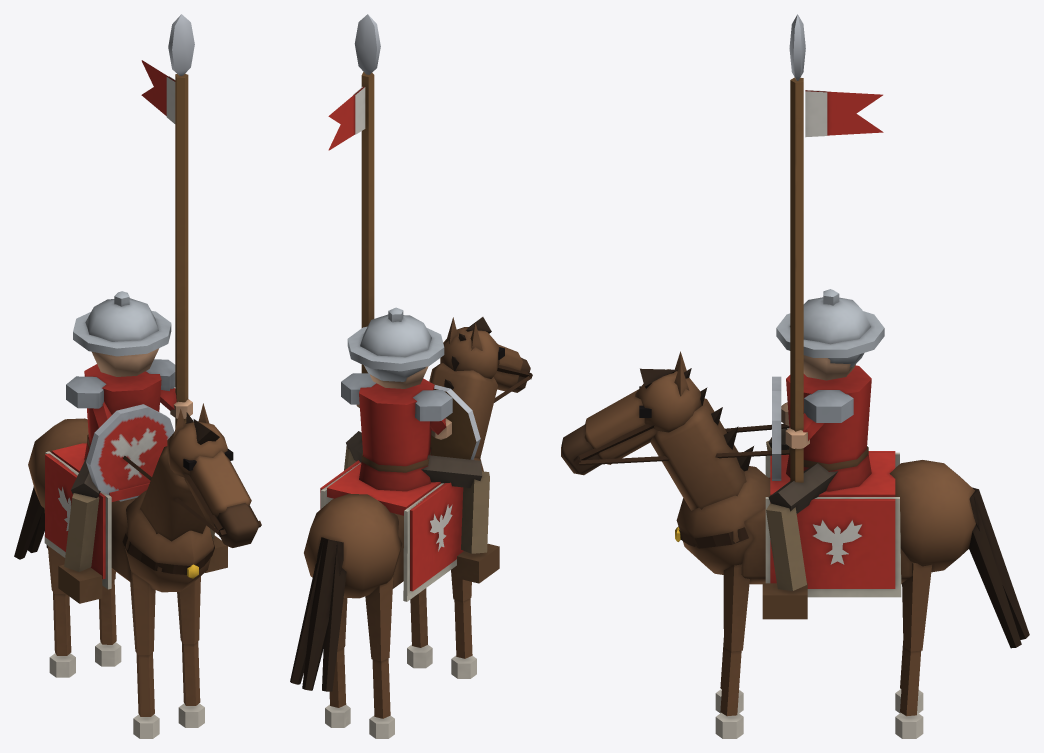
The model's file is assault_dl2_red.glb.
3 views of the same model, side by side, from view 1: azimuth 30°, elevation 25°; view 2: azimuth 150°, elevation 25°; view 3: azimuth 270°, elevation 25° (orthographic). The views are drawn at different scales.
Visible parts, largest first — view 1: assault_dl2_red; view 2: assault_dl2_red; view 3: assault_dl2_red.
Boxes of the visible parts, <box> form: assault_dl2_red: <box>14,14,261,738</box>; assault_dl2_red: <box>290,14,532,738</box>; assault_dl2_red: <box>561,14,1029,738</box>.
Bounding box in the file's own units: 0.2399 × 1.03 × 0.6004.
1 material, 1 textured.
